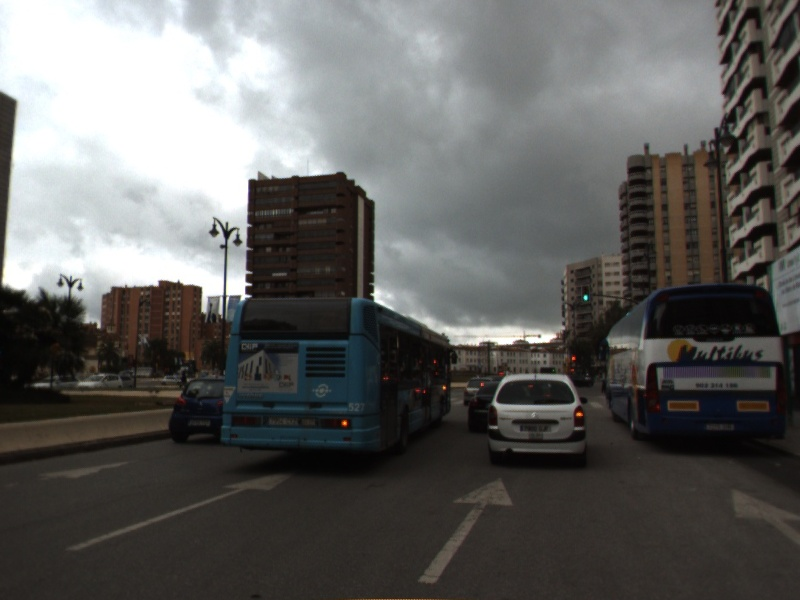STRAIGHT: (64, 470, 297, 553), (414, 475, 517, 586), (728, 485, 800, 549)
